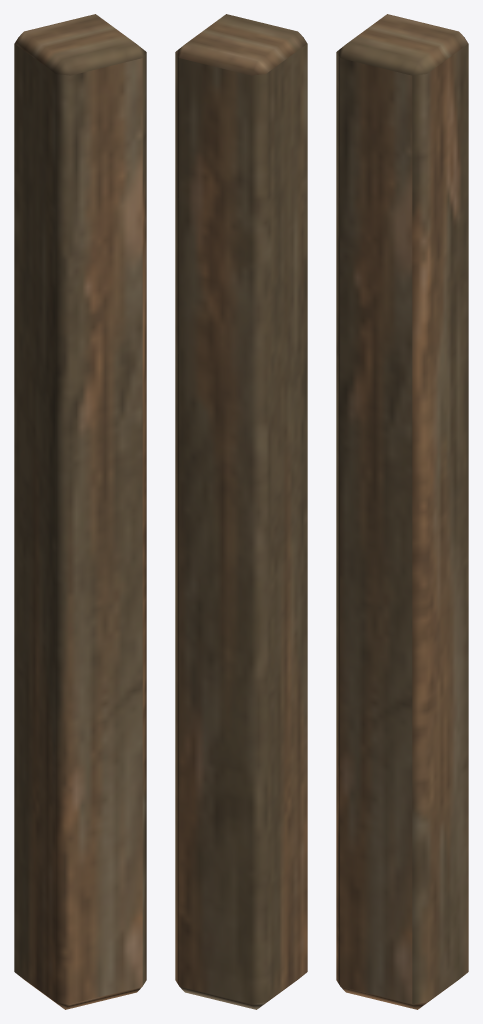
Rendered from SM_fence_02.fbx.
The picture shows the model from 3 angles, left to right: view 1: azimuth 30°, elevation 25°; view 2: azimuth 150°, elevation 25°; view 3: azimuth 330°, elevation 25°; orthographic projection.
Parts seen in each view (by area): view 1: SM_fence_02_LOD0; view 2: SM_fence_02_LOD0; view 3: SM_fence_02_LOD0.
Part boxes in pixels (bbox=[...]): SM_fence_02_LOD0: bbox=[14, 14, 146, 1009]; SM_fence_02_LOD0: bbox=[175, 14, 307, 1009]; SM_fence_02_LOD0: bbox=[336, 14, 468, 1009].
Size of the model in its own units: 13.64 by 13.64 by 136.
1 material, 1 textured.
